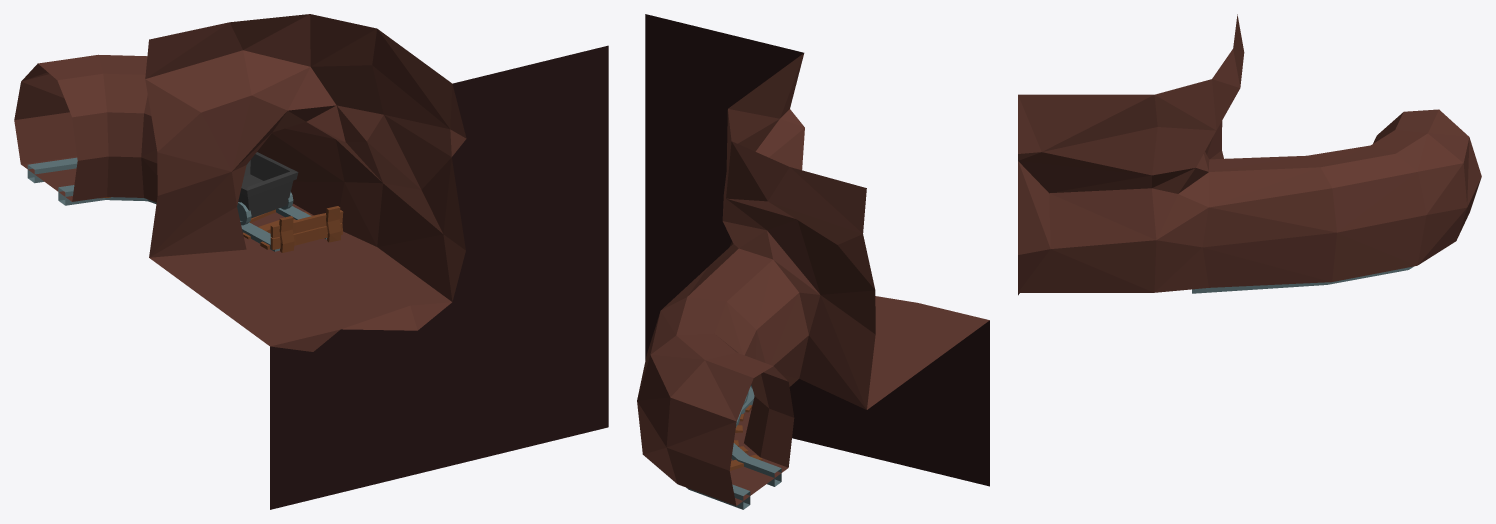
The model's file is Block_DOWN_RIGHT.fbx.
The picture shows the model from 3 angles, left to right: view 1: azimuth 30°, elevation 25°; view 2: azimuth 150°, elevation 25°; view 3: azimuth 270°, elevation 25°; orthographic projection. The views are drawn at different scales.
Visible parts, largest first — view 1: Block_DOWN_RIGHT; view 2: Block_DOWN_RIGHT; view 3: Block_DOWN_RIGHT.
Part boxes in pixels (bbox=[...]): Block_DOWN_RIGHT: bbox=[14, 14, 608, 509]; Block_DOWN_RIGHT: bbox=[637, 14, 989, 509]; Block_DOWN_RIGHT: bbox=[1018, 14, 1481, 295].
Size of the model in its own units: 13 by 14 by 17.
